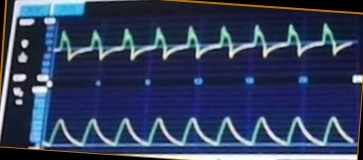Accumulation Flow: (59, 18, 347, 74)
Volume: (49, 98, 352, 149)
